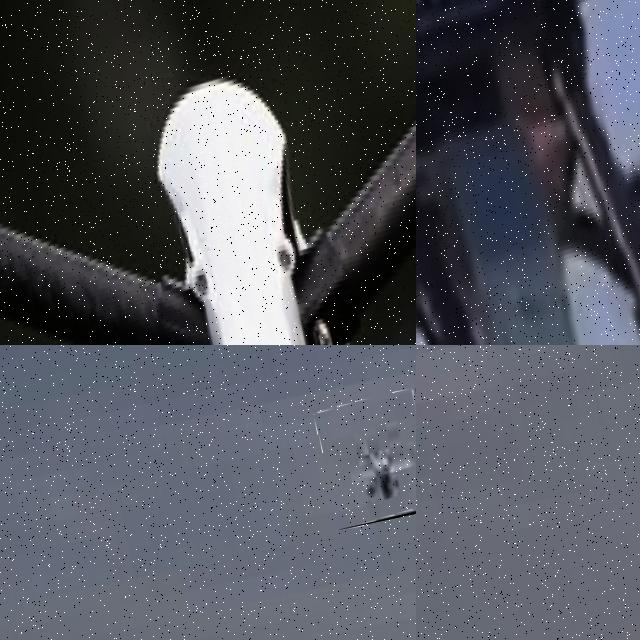0: (314, 387, 416, 529)
drone: (0, 0, 416, 345), (416, 0, 640, 345)
